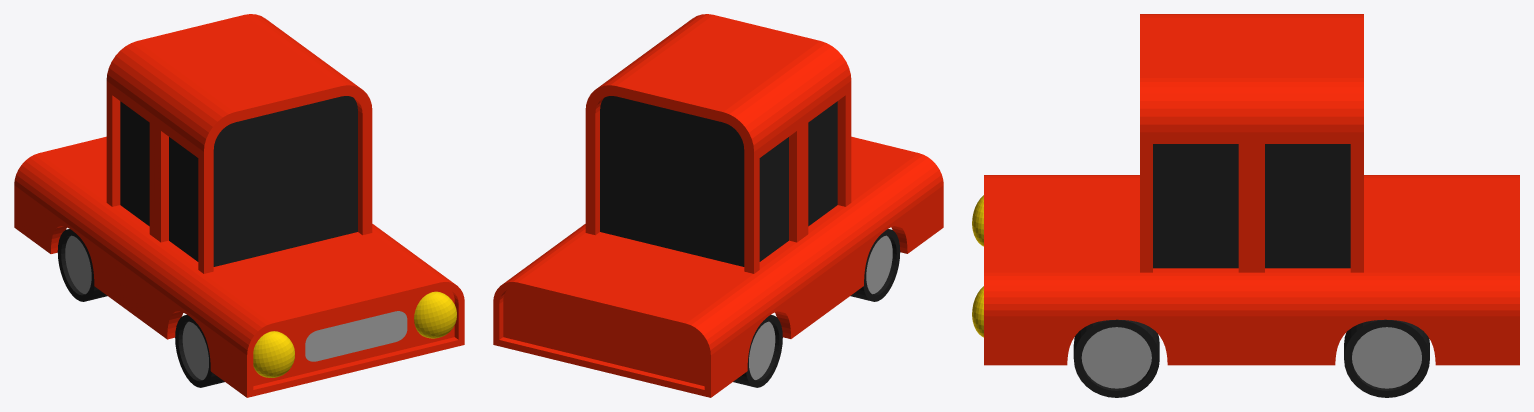
Rendered from Carro3.glb.
3 renders of one model, left to right at view 1: azimuth 30°, elevation 25°; view 2: azimuth 150°, elevation 25°; view 3: azimuth 270°, elevation 25°, orthographic. The views are drawn at different scales.
Parts seen in each view (by area): view 1: Cube.001, Cube, Cylinder, Plane, Sphere, Sphere.001; view 2: Cube.001, Cube, Cylinder; view 3: Cube, Cube.001, Cylinder.
Boxes of the visible parts, x1=… form: Cube.001: x1=106, y1=14, x2=372, y2=273; Cube: x1=14, y1=136, x2=464, y2=397; Cylinder: x1=57, y1=229, x2=224, y2=387; Plane: x1=305, y1=311, x2=407, y2=361; Sphere: x1=414, y1=291, x2=456, y2=338; Sphere.001: x1=253, y1=331, x2=294, y2=377; Cube.001: x1=585, y1=14, x2=851, y2=273; Cube: x1=493, y1=136, x2=943, y2=397; Cylinder: x1=733, y1=229, x2=900, y2=387; Cube: x1=984, y1=175, x2=1519, y2=365; Cube.001: x1=1140, y1=14, x2=1363, y2=272; Cylinder: x1=1073, y1=319, x2=1429, y2=397.
Size of the model in its own units: 2 by 2.22 by 3.79.
